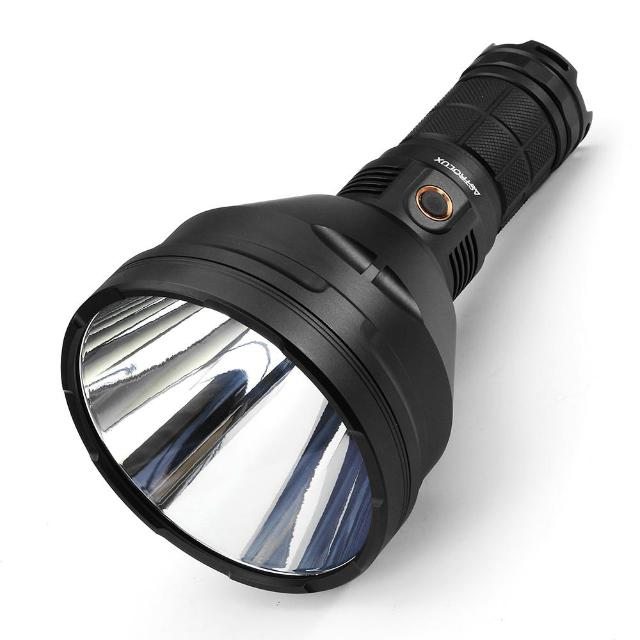Flashlight: (50, 31, 600, 606)
